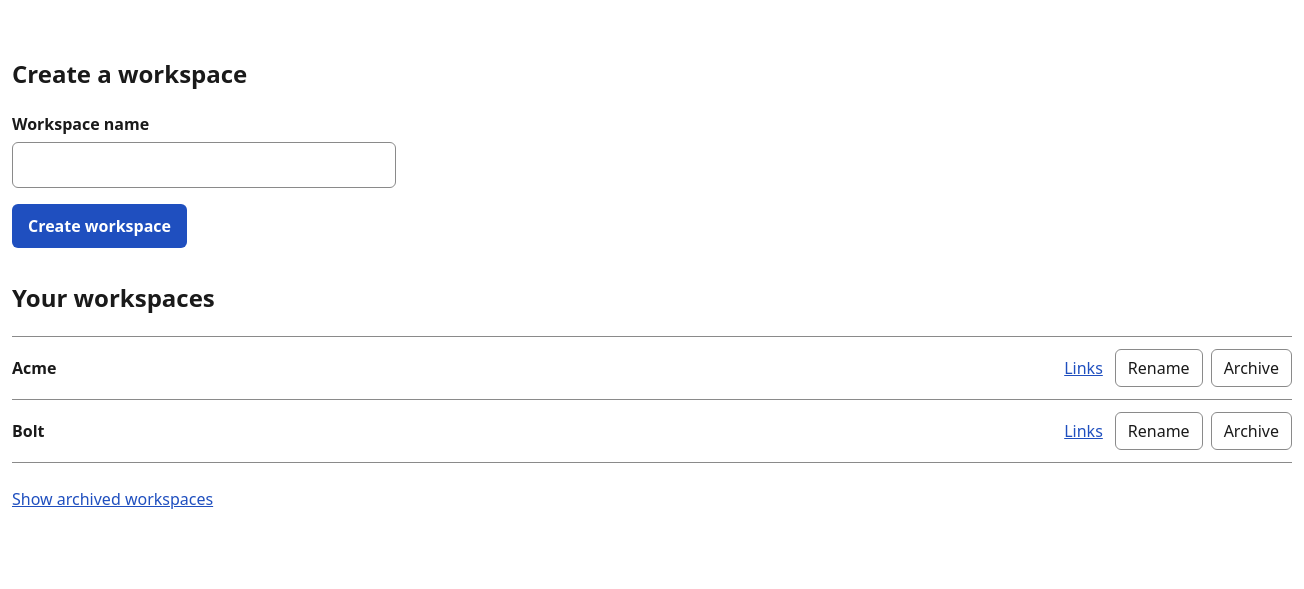
it: workspace list: AC-27 create › posts the name, re-fetches the list, and shows the third workspace without a reload
The width and height of the screenshot is (1304, 589).
Expected: the number of list items is 2, [12, 337, 1292, 400]; [12, 400, 1292, 463]
Type "Caro" into the field labelled "Workspace name" at (204, 165), box [12, 142, 396, 188]
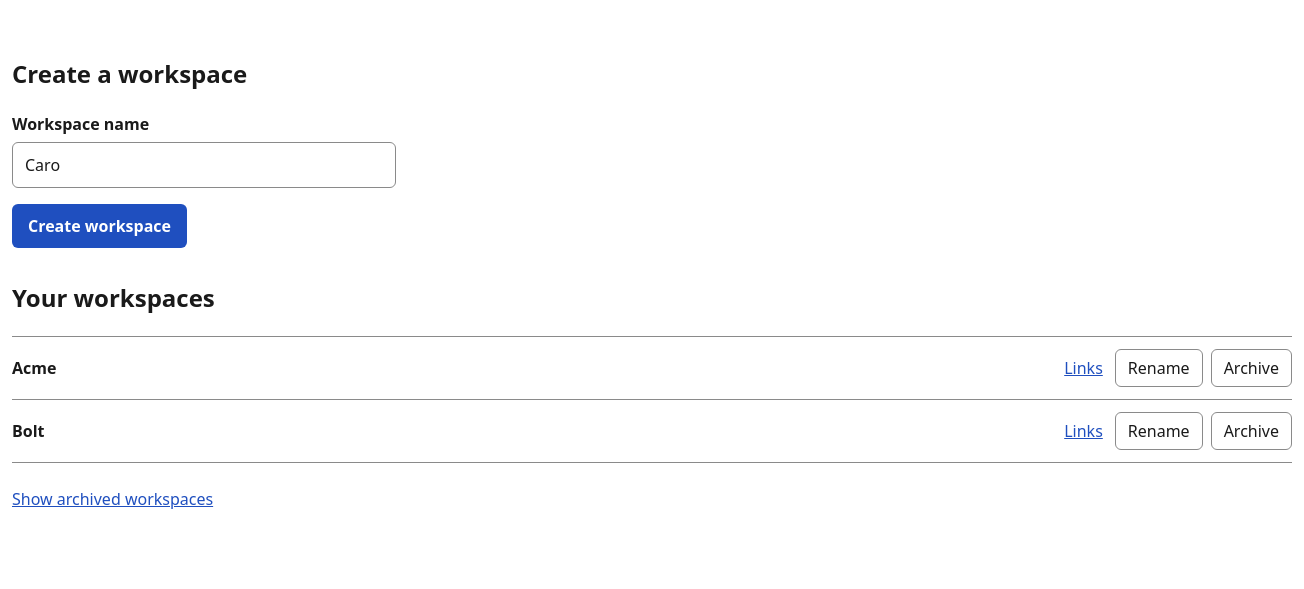
Click the button "Create workspace" at (100, 226), box [12, 204, 187, 248]
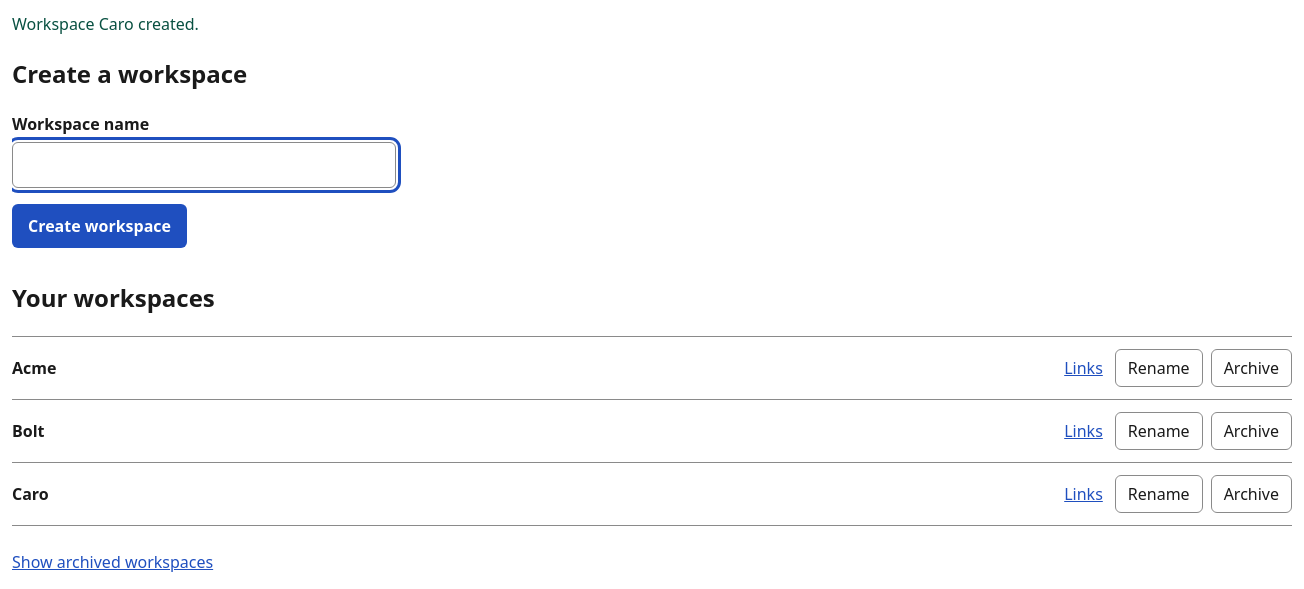
Result: the number of list items is 3 at [12, 337, 1292, 400]; [12, 400, 1292, 463]; [12, 463, 1292, 526]
Result: the button named "Rename Caro" is shown at [1115, 475, 1203, 513]
Result: the field labelled "Workspace name" is empty at [12, 142, 396, 188]
